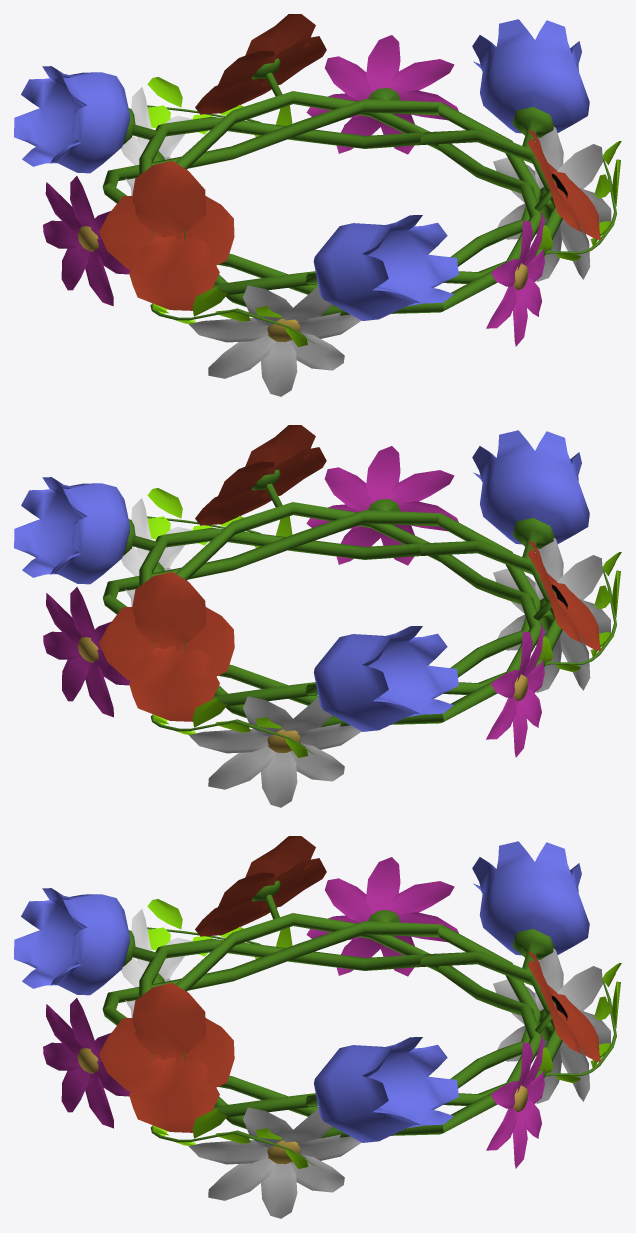
The model's file is Wreath of flowers ³2.fbx.
3 views of the same model, one above another, from view 1: azimuth 30°, elevation 25°; view 2: azimuth 150°, elevation 25°; view 3: azimuth 270°, elevation 25° (orthographic).
Parts seen in each view (by area): view 1: Готовий вінок; view 2: Готовий вінок; view 3: Готовий вінок.
Boxes of the visible parts, left/top/right/bottom form: Готовий вінок: left=14, top=14, right=621, bottom=396; Готовий вінок: left=14, top=425, right=621, bottom=807; Готовий вінок: left=14, top=836, right=621, bottom=1218.
Bounding box in the file's own units: 2732 × 1043 × 2781.
